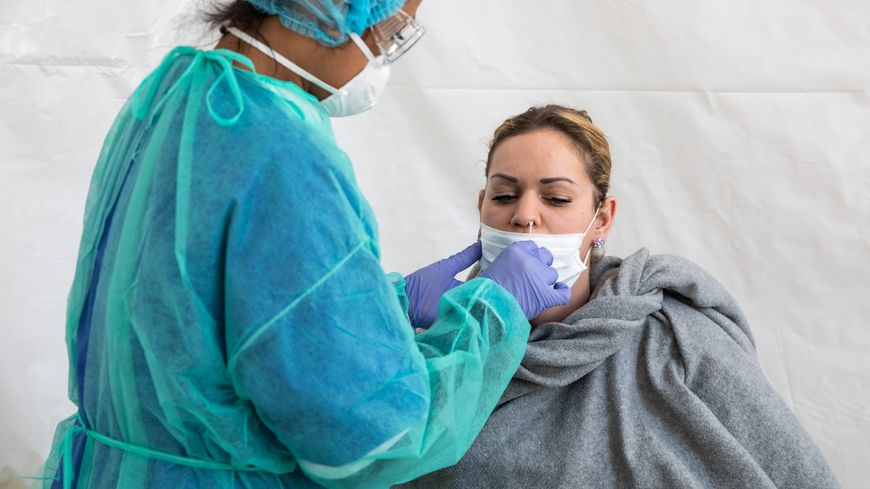with_incorrect_mask: (481, 166, 584, 249)
with_mask: (306, 23, 413, 120)
